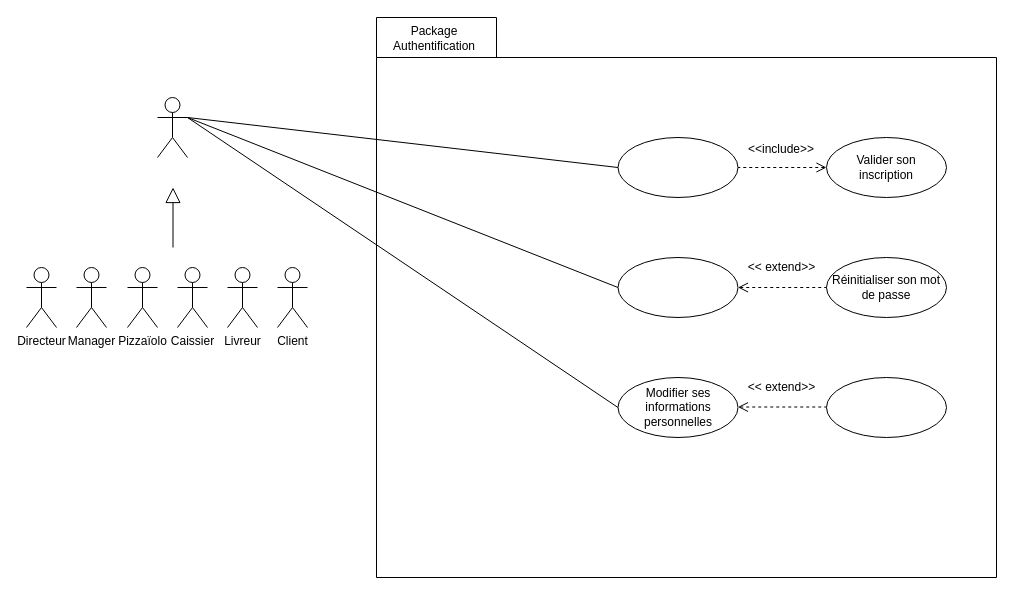
The diagram is 1014 pixels wide and 595 high, and some of its shapes have lost their labels. Each missing label, with the centre of its shape:
"Demander la suppression de son compte utilisateur" belongs at [886,407].
"S'authentifier" belongs at [677,287].
"S'inscrire" belongs at [677,167].
"Utilisateur" belongs at [172,127].
